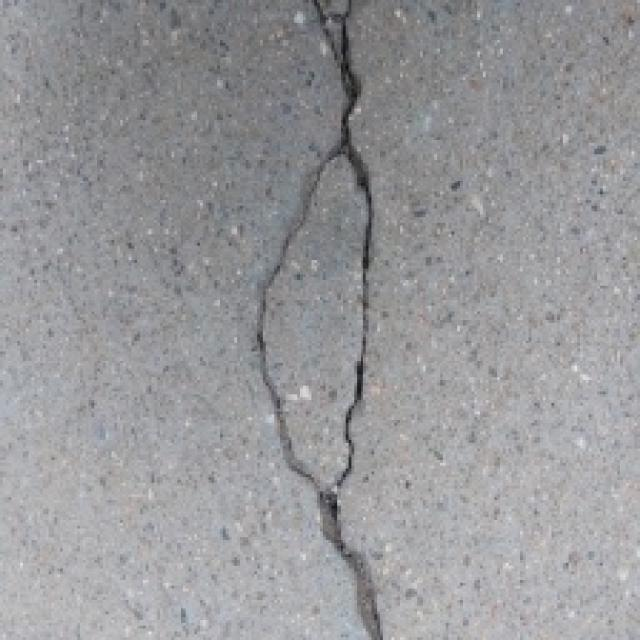crack: (236, 0, 422, 640)
